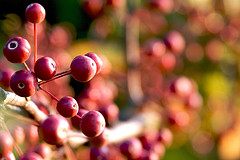apple: (66, 55, 97, 84), (78, 110, 108, 138), (10, 68, 38, 98), (24, 2, 49, 25)
